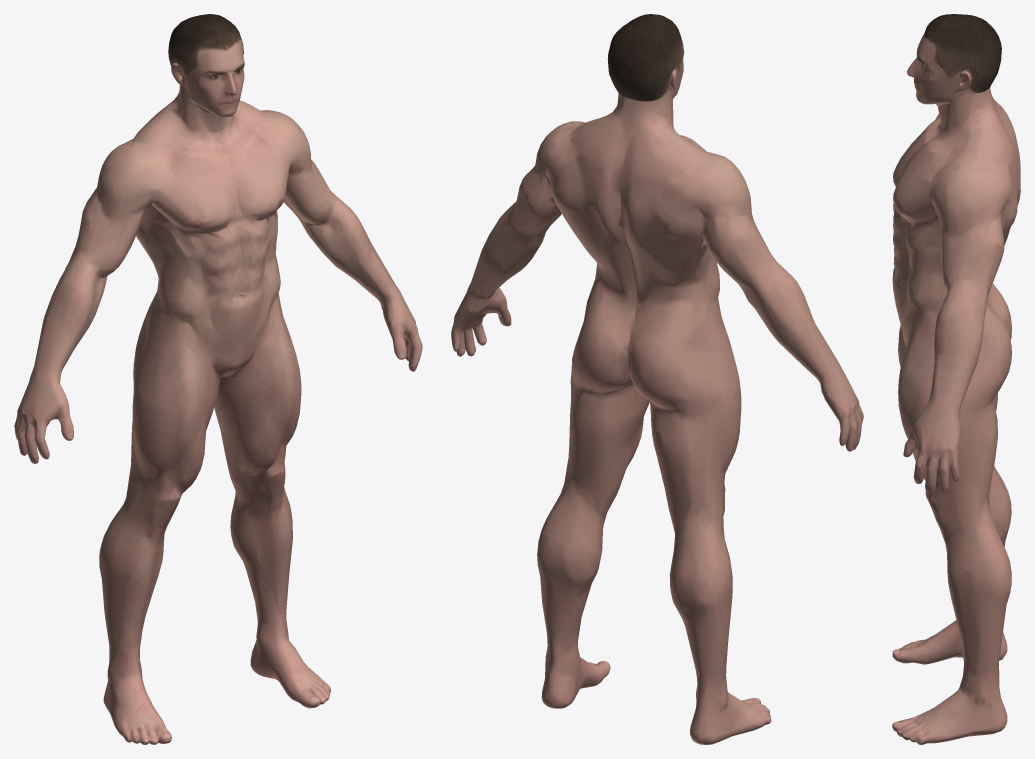
Rendered from Meshy_AI_Atlas_Form_20261124_texture.fbx.
3 renders of one model, left to right at view 1: azimuth 30°, elevation 25°; view 2: azimuth 150°, elevation 25°; view 3: azimuth 270°, elevation 25°, orthographic. The views are drawn at different scales.
Visible parts, largest first — view 1: Mesh_0; view 2: Mesh_0; view 3: Mesh_0.
Boxes of the visible parts, <box> form: Mesh_0: <box>14,14,422,744</box>; Mesh_0: <box>451,14,863,744</box>; Mesh_0: <box>892,14,1020,744</box>.
Size of the model in its own units: 115 by 190 by 32.52.
1 material, 1 textured.
